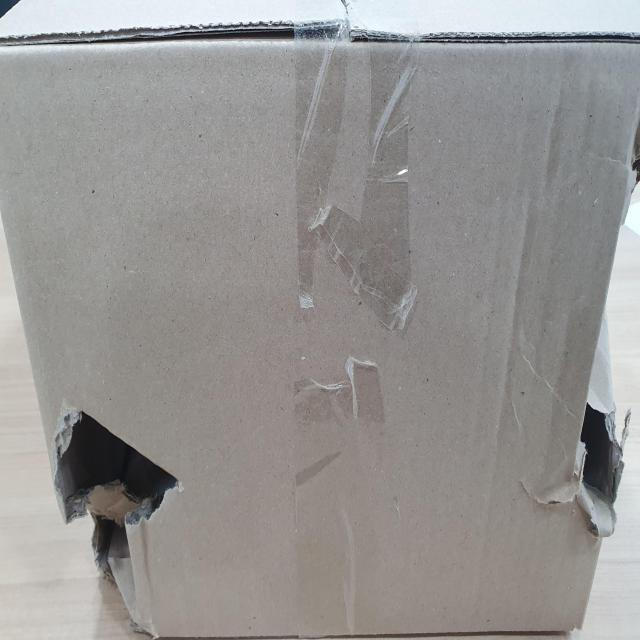damaged: (40, 394, 195, 600), (559, 378, 624, 552)
